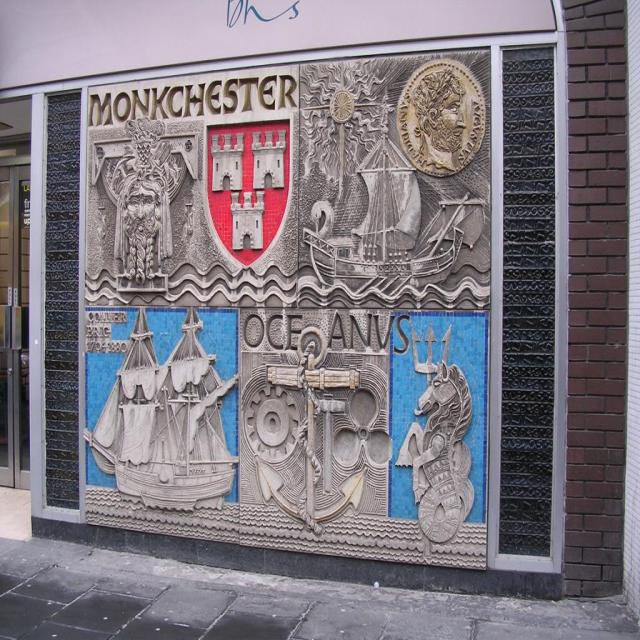Coin: (396, 58, 488, 179)
